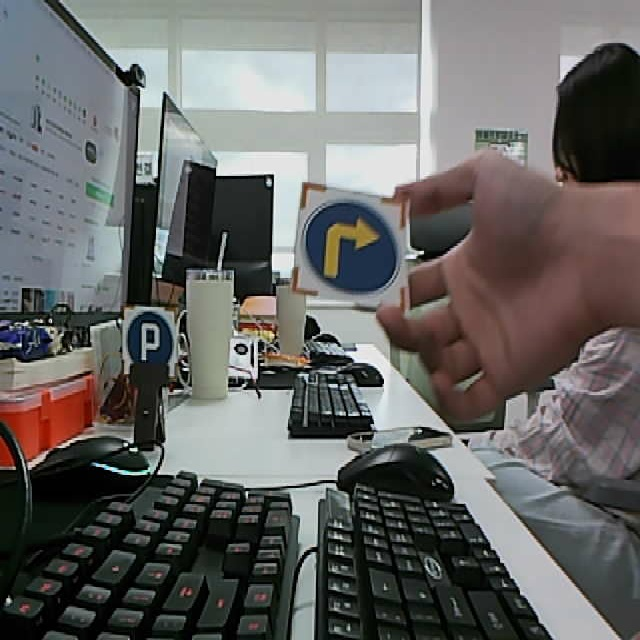right: (293, 180, 410, 312)
